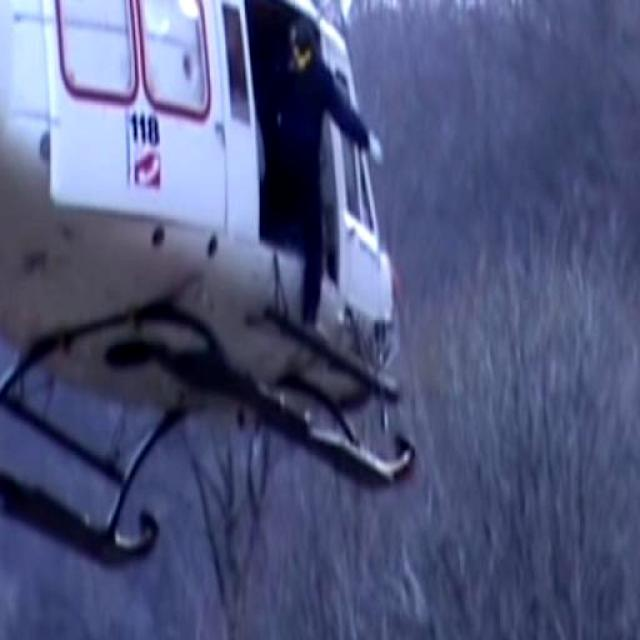drone: (0, 0, 424, 576)
